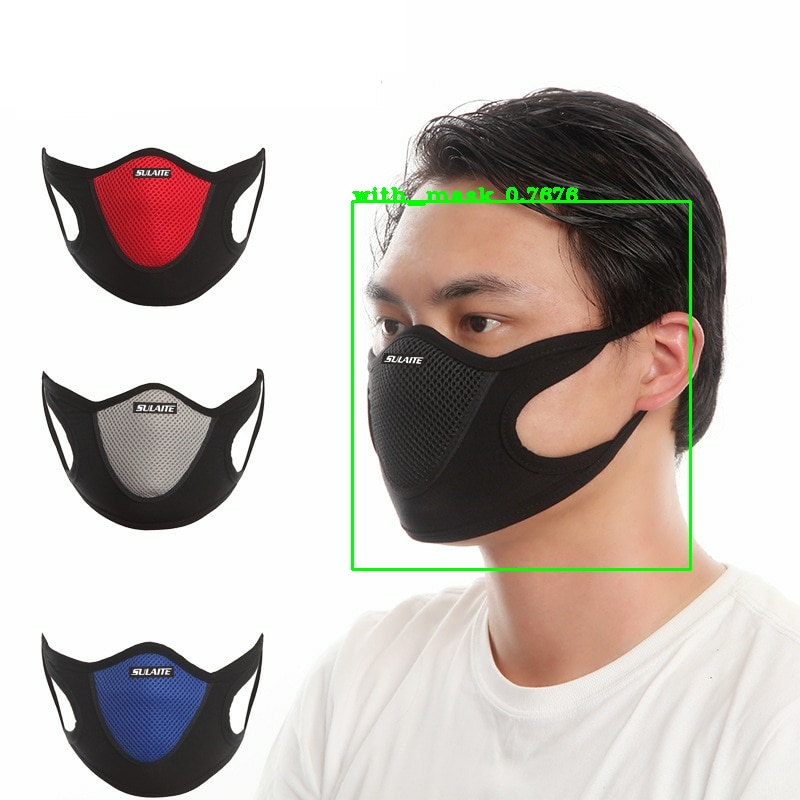with_mask: (346, 179, 706, 566)
